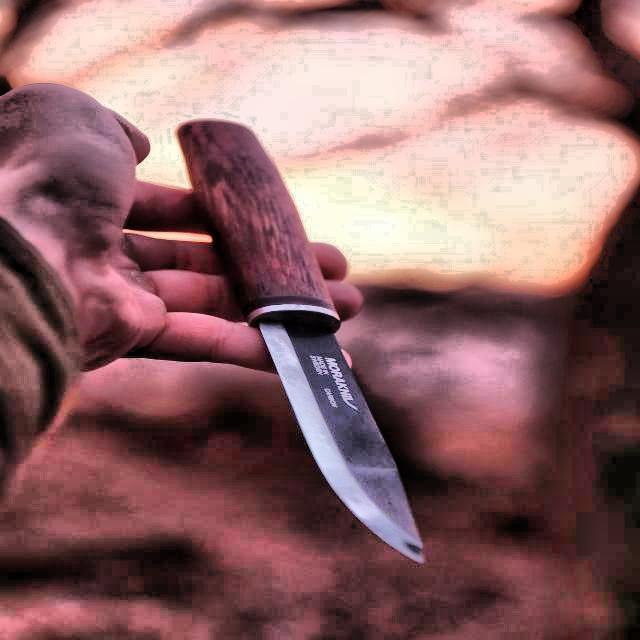knife: (172, 115, 480, 568)
